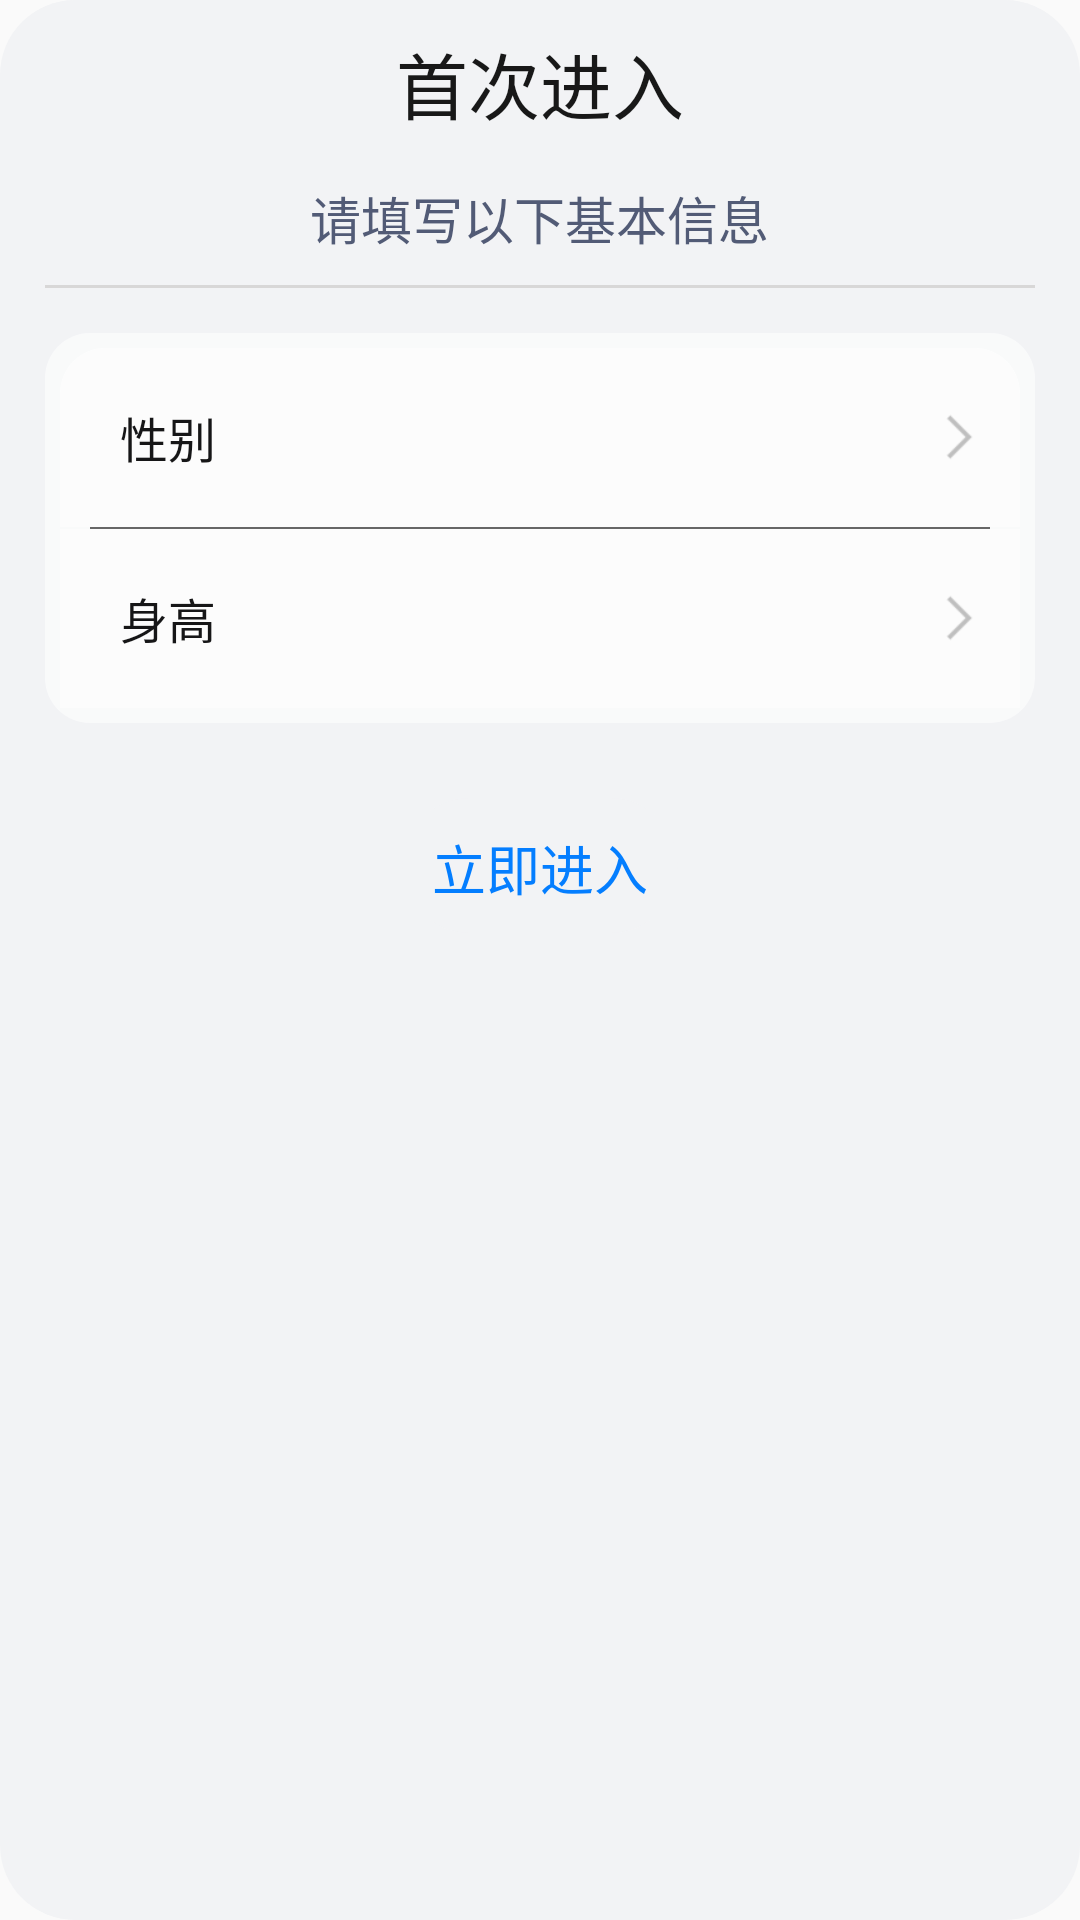

Named icons in this screenshot (1080px x 1920px) and their centers, [x,y]:
right: [959,437], [959,618]
